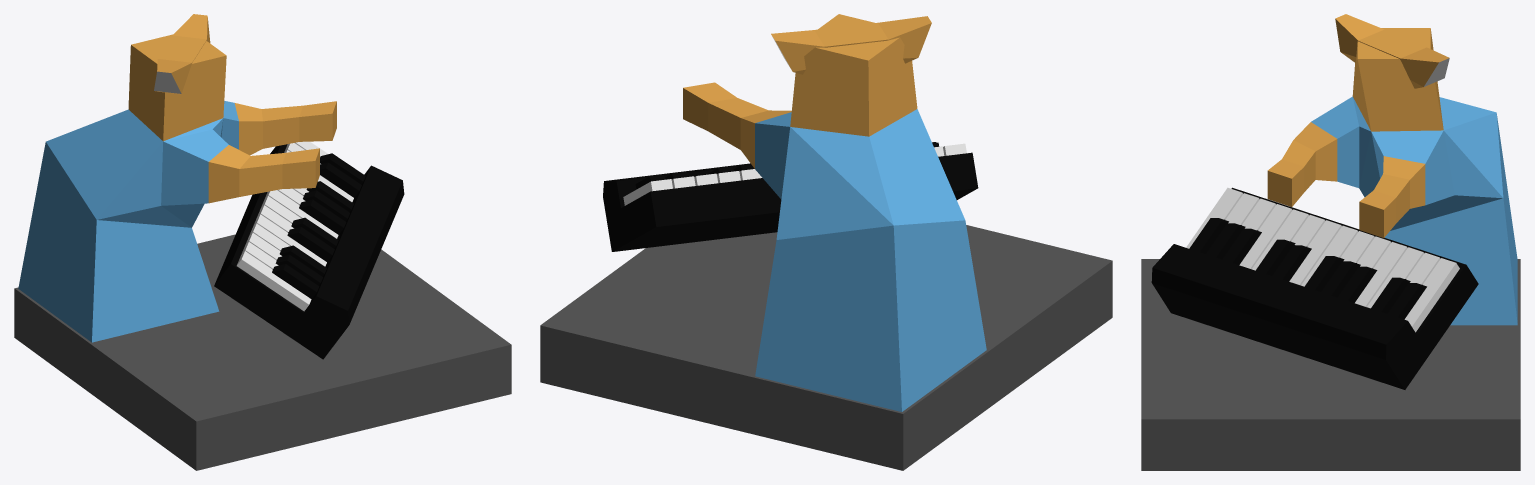
File: piano_cat.fbx
The picture shows the model from 3 angles, left to right: view 1: azimuth 30°, elevation 25°; view 2: azimuth 150°, elevation 25°; view 3: azimuth 270°, elevation 25°; orthographic projection. The views are drawn at different scales.
Visible parts, largest first — view 1: Ground, Cat, Piano, Black_Keys, White_Keys, Ears; view 2: Cat, Ground, Piano, Ears, White_Keys; view 3: Ground, Cat, Piano, White_Keys, Black_Keys, Ears.
Part boxes in pixels (bbox=[...]): Ground: bbox=[14, 234, 511, 470]; Cat: bbox=[18, 34, 336, 342]; Piano: bbox=[214, 144, 404, 359]; Black_Keys: bbox=[272, 153, 365, 298]; White_Keys: bbox=[236, 141, 353, 311]; Ears: bbox=[154, 14, 210, 94]; Cat: bbox=[683, 14, 986, 411]; Ground: bbox=[540, 225, 1112, 470]; Piano: bbox=[603, 142, 978, 251]; Ears: bbox=[771, 16, 931, 74]; White_Keys: bbox=[623, 143, 966, 205]; Ground: bbox=[1141, 259, 1520, 470]; Cat: bbox=[1267, 28, 1517, 325]; Piano: bbox=[1151, 187, 1478, 389]; White_Keys: bbox=[1186, 187, 1459, 332]; Black_Keys: bbox=[1189, 218, 1426, 319]; Ears: bbox=[1335, 14, 1449, 88].
Size of the model in its own units: 206 by 190 by 200.
